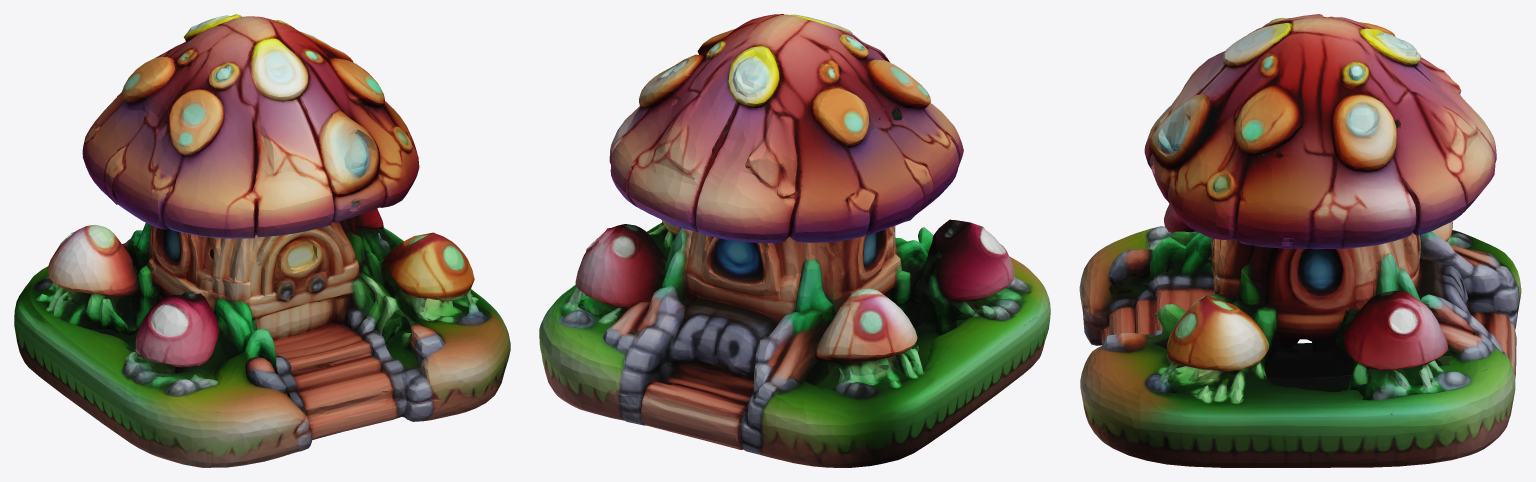
Rendered from crab_4.glb.
The picture shows the model from 3 angles, left to right: view 1: azimuth 30°, elevation 25°; view 2: azimuth 150°, elevation 25°; view 3: azimuth 270°, elevation 25°; orthographic projection. The views are drawn at different scales.
Visible parts, largest first — view 1: world; view 2: world; view 3: world.
Boxes of the visible parts, bbox=[...] form: world: bbox=[14, 14, 510, 467]; world: bbox=[539, 14, 1050, 467]; world: bbox=[1079, 14, 1521, 467].
Size of the model in its own units: 0.8596 by 0.7452 by 0.8358.
Materials: 1 (1 with a texture image).
